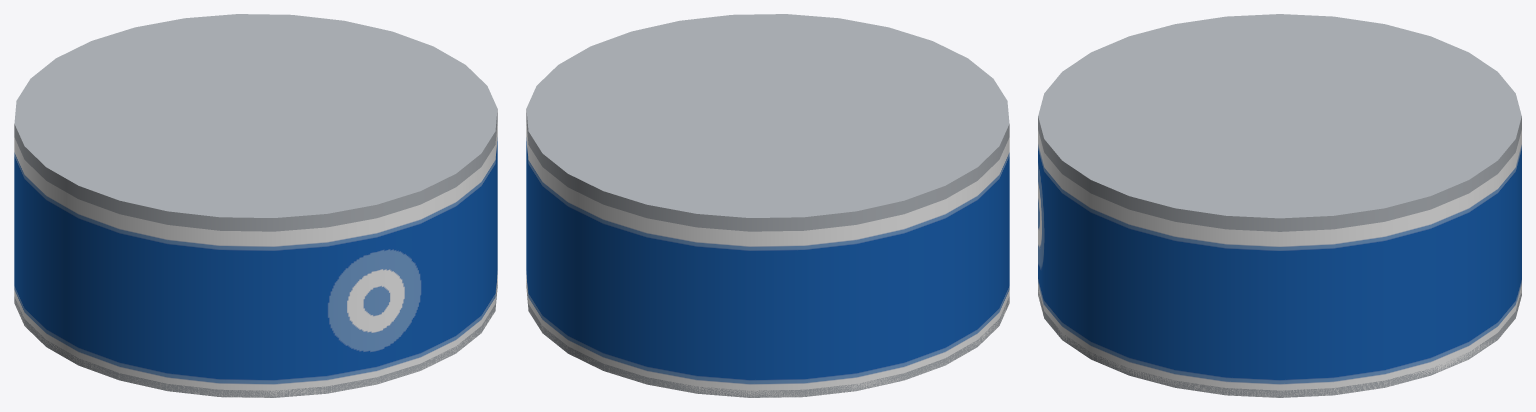
File: Canned_Tuna.fbx
The picture shows the model from 3 angles, left to right: view 1: azimuth 30°, elevation 25°; view 2: azimuth 150°, elevation 25°; view 3: azimuth 270°, elevation 25°; orthographic projection.
Visible parts, largest first — view 1: Canned_Tuna; view 2: Canned_Tuna; view 3: Canned_Tuna.
Boxes of the visible parts, <box> form: Canned_Tuna: <box>14,14,497,397</box>; Canned_Tuna: <box>526,14,1009,397</box>; Canned_Tuna: <box>1038,14,1521,397</box>.
Size of the model in its own units: 0.084 by 0.037 by 0.084.
2 materials, 1 textured.
